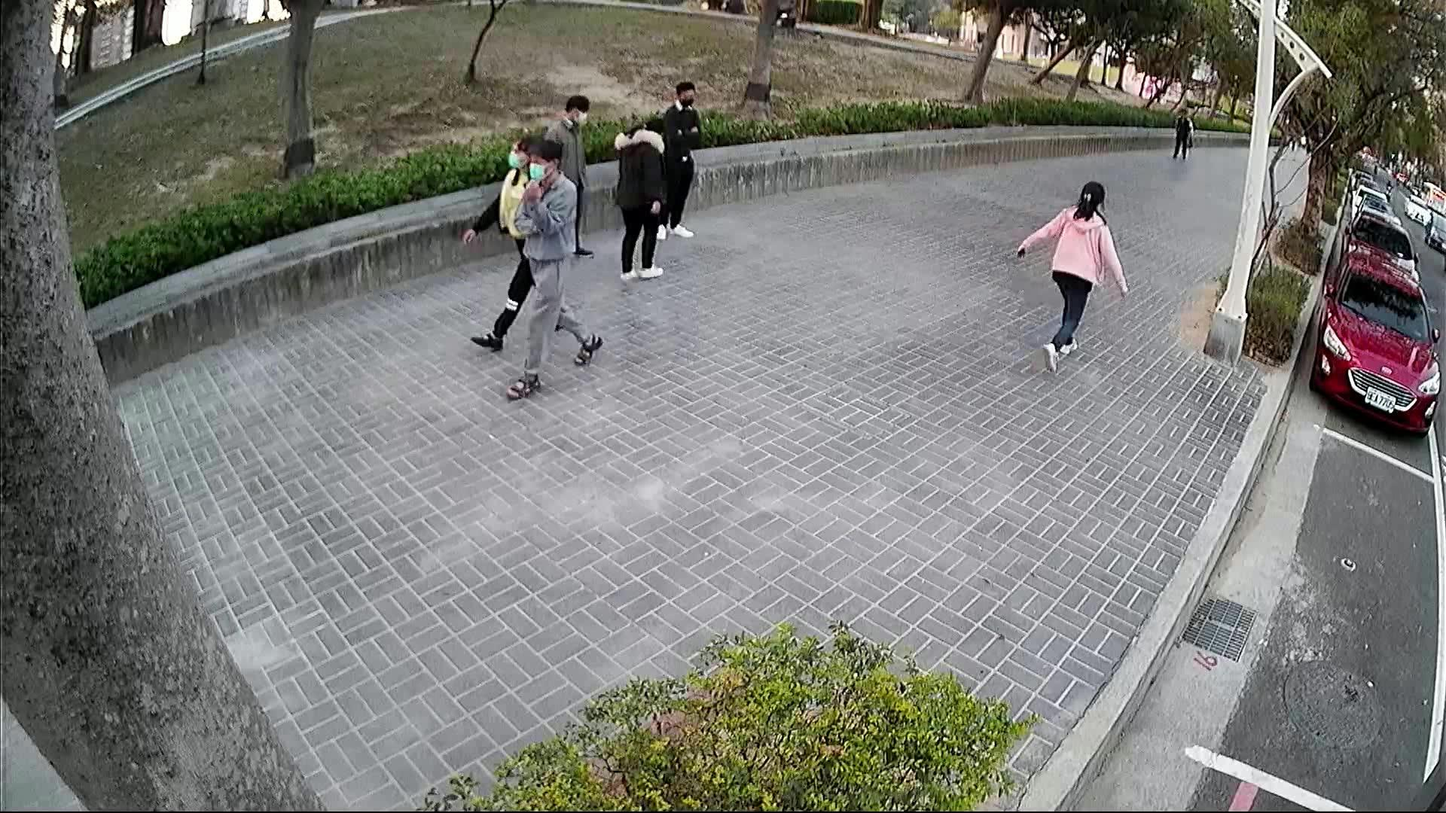person: (499, 134, 604, 401), (457, 130, 566, 353), (1013, 175, 1134, 373), (606, 109, 670, 283), (538, 87, 596, 261), (651, 75, 705, 241), (1167, 107, 1195, 163)
